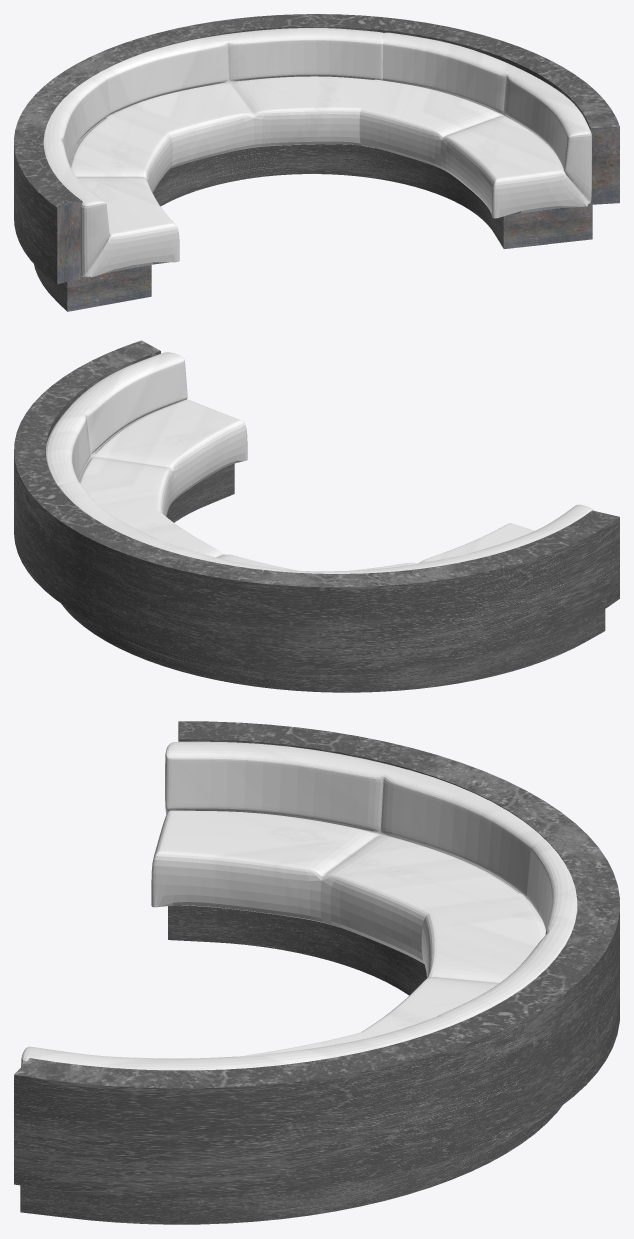
Rendered from sillon.obj.
The picture shows the model from 3 angles, top to bottom: view 1: azimuth 30°, elevation 25°; view 2: azimuth 150°, elevation 25°; view 3: azimuth 270°, elevation 25°; orthographic projection. The views are drawn at different scales.
Parts seen in each view (by area): view 1: sofa1:polySurface11; view 2: sofa1:polySurface11; view 3: sofa1:polySurface11.
Part boxes in pixels (x1,y1,x2,y2): sofa1:polySurface11: [14, 14, 619, 311]; sofa1:polySurface11: [14, 340, 619, 692]; sofa1:polySurface11: [14, 721, 619, 1224].
Size of the model in its own units: 1.69 by 0.3342 by 1.18.
Materials: 9 (9 with a texture image).
